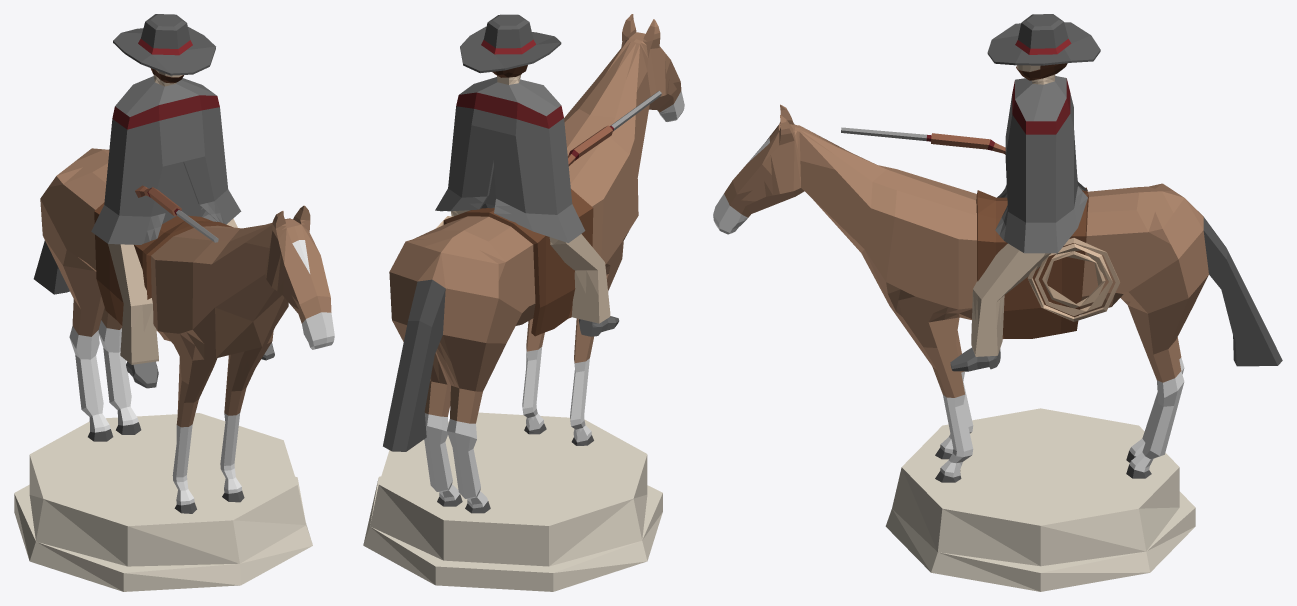
File: villain.fbx
The picture shows the model from 3 angles, left to right: view 1: azimuth 30°, elevation 25°; view 2: azimuth 150°, elevation 25°; view 3: azimuth 270°, elevation 25°; orthographic projection.
Visible parts, largest first — view 1: villain; view 2: villain; view 3: villain.
Part boxes in pixels (box(x1,y1,x2,y2)): villain: box(14, 14, 334, 591); villain: box(363, 14, 684, 591); villain: box(713, 14, 1282, 591).
Bounding box in the file's own units: 200 × 362 × 367.
